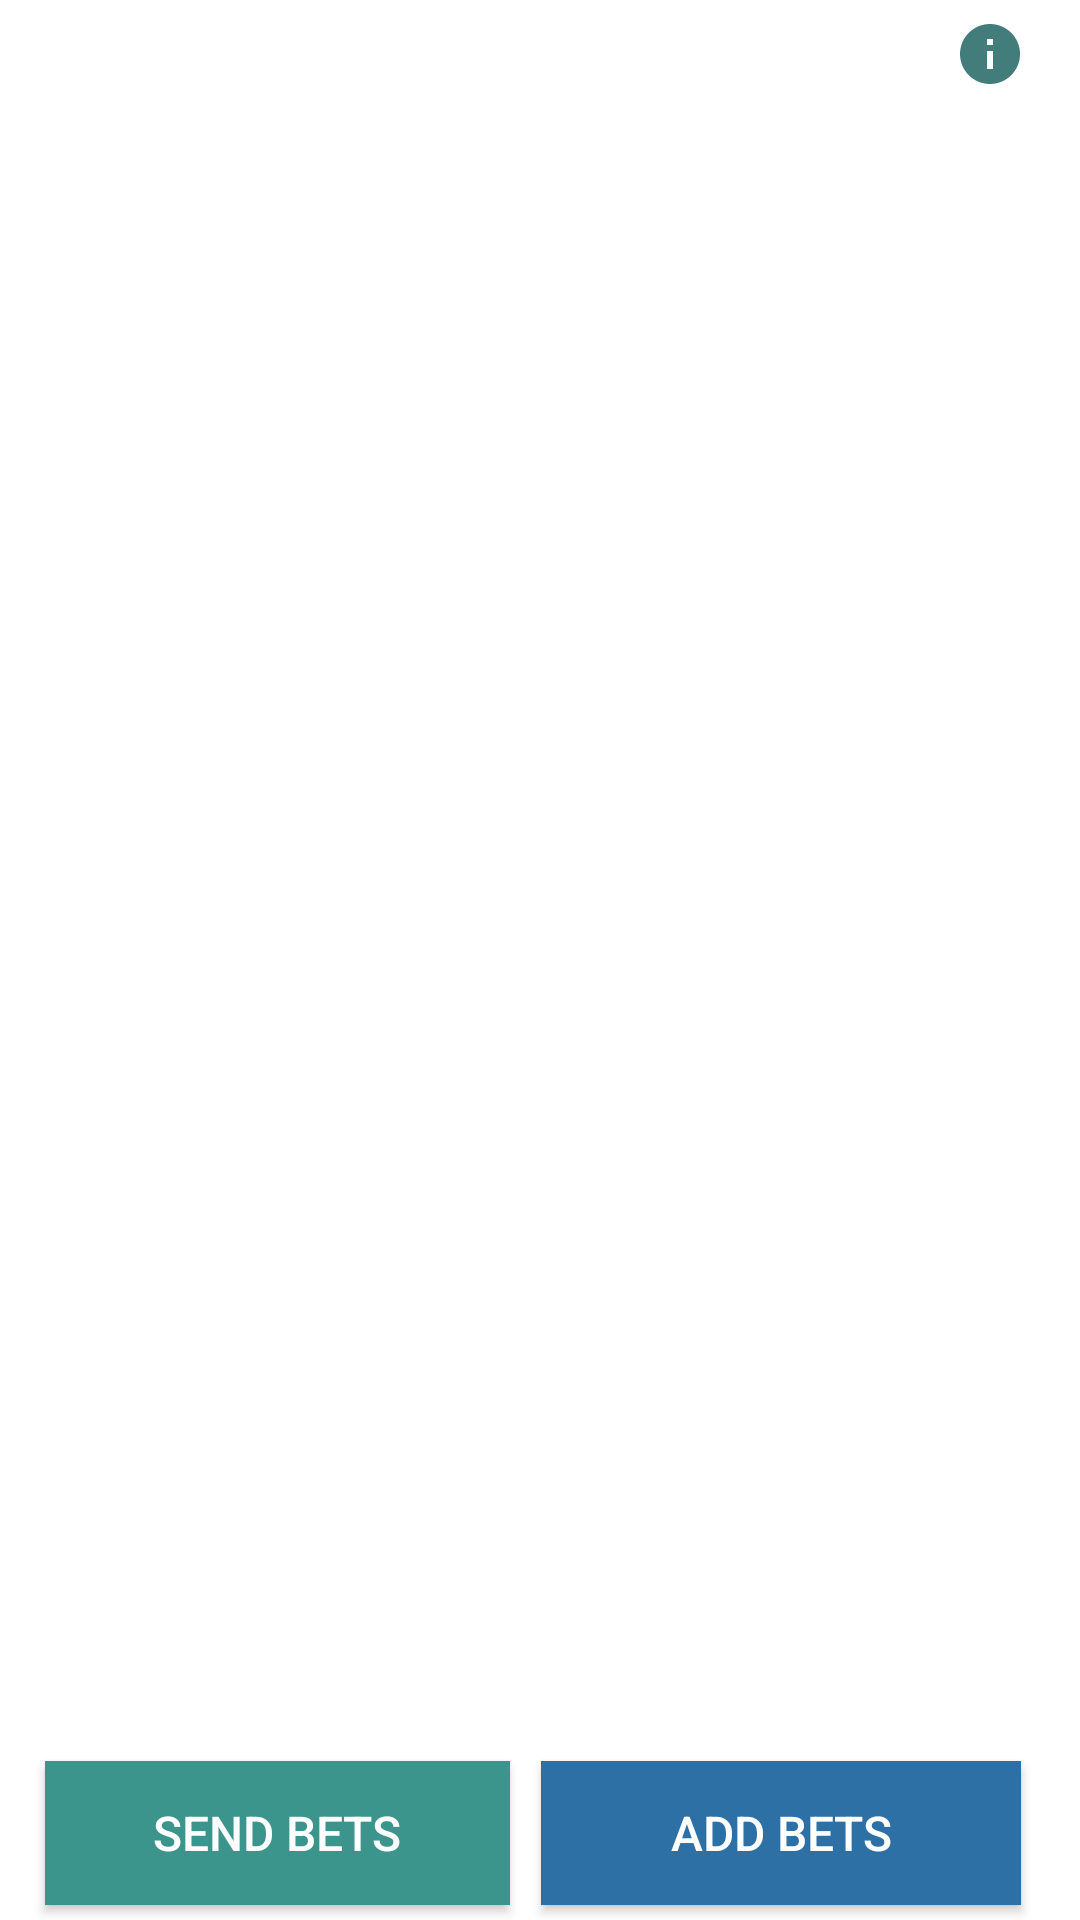

Point at icon controls on the screen. Image size 1080x1920, points as (x,y).
info: (990,54)
